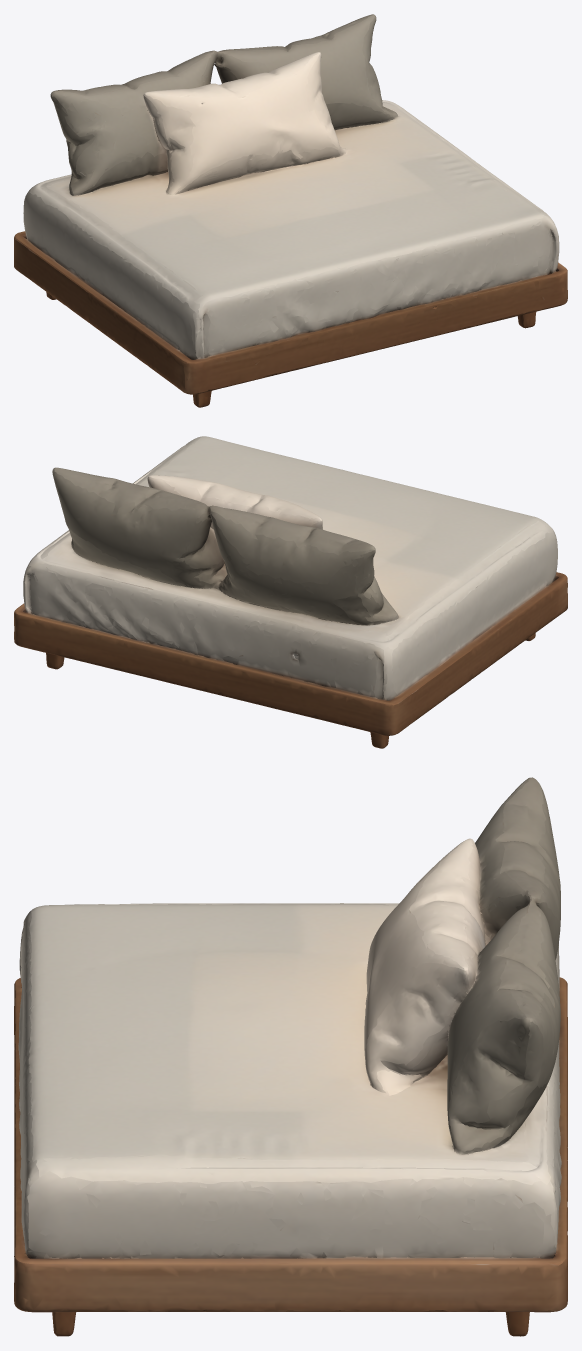
The model's file is item_9dc6caa3.glb.
3 views of the same model, one above another, from view 1: azimuth 30°, elevation 25°; view 2: azimuth 150°, elevation 25°; view 3: azimuth 270°, elevation 25° (orthographic). The views are drawn at different scales.
Parts seen in each view (by area): view 1: world; view 2: world; view 3: world.
Part boxes in pixels (x1,y1,x2,y2): world: (14, 14, 567, 407); world: (14, 436, 567, 748); world: (14, 777, 567, 1336).
Bounding box in the file's own units: 2.1 × 1.07 × 1.7.
1 material, 1 textured.
